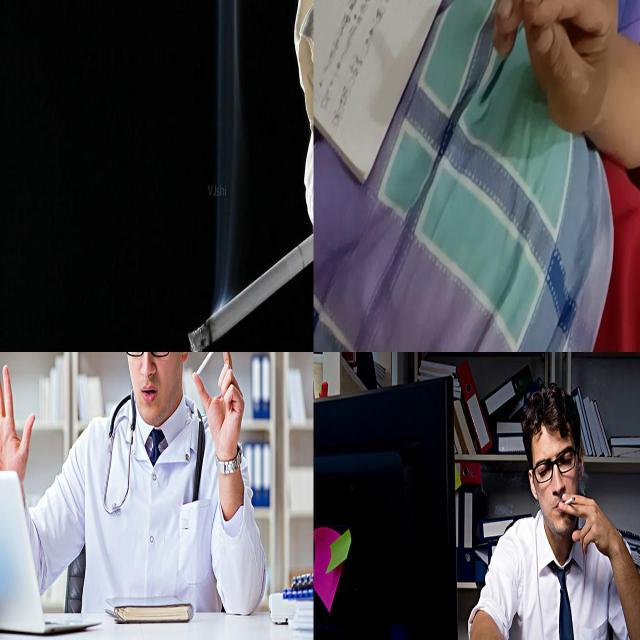cigarette: (188, 228, 313, 352), (196, 352, 224, 376), (561, 494, 576, 508)
